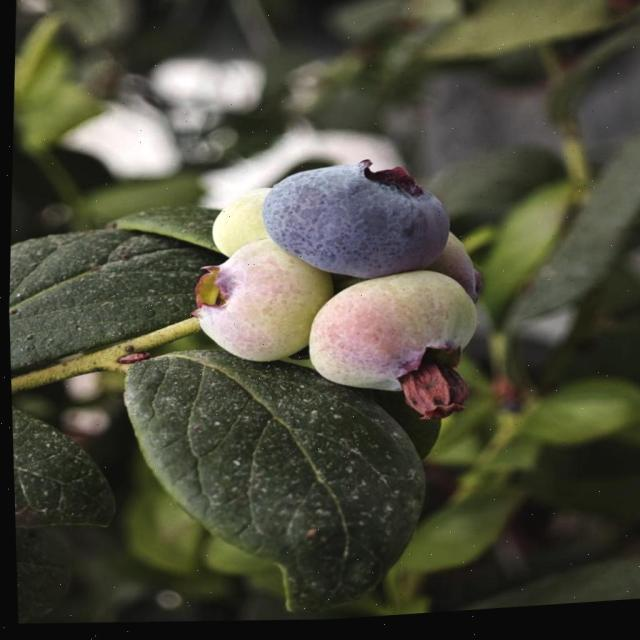RipeBlueBerry: (257, 158, 454, 294)
Semi-RipeBlueBerry: (303, 268, 479, 408), (183, 239, 323, 374)
